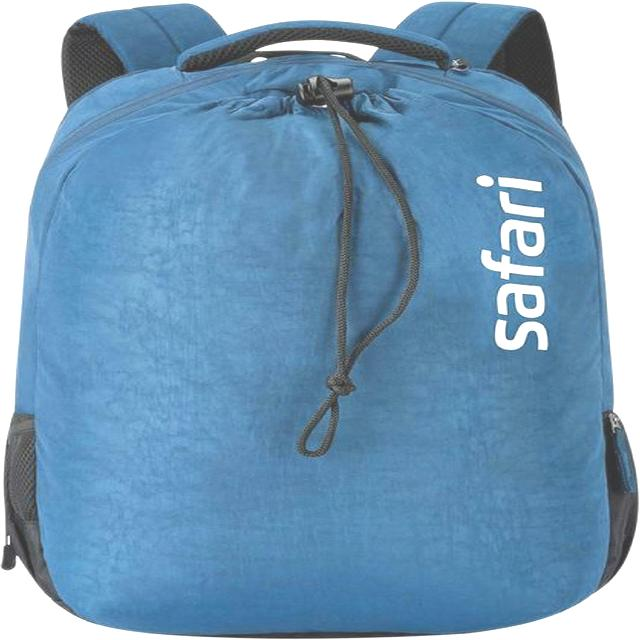backpack: (3, 2, 639, 638)
